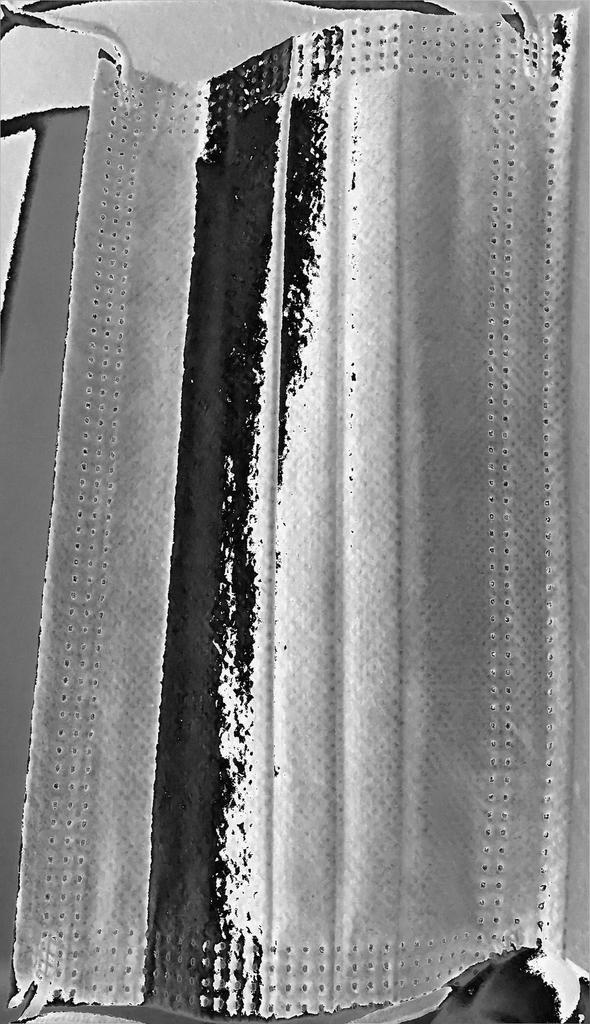High GSM: (139, 75, 504, 941)
